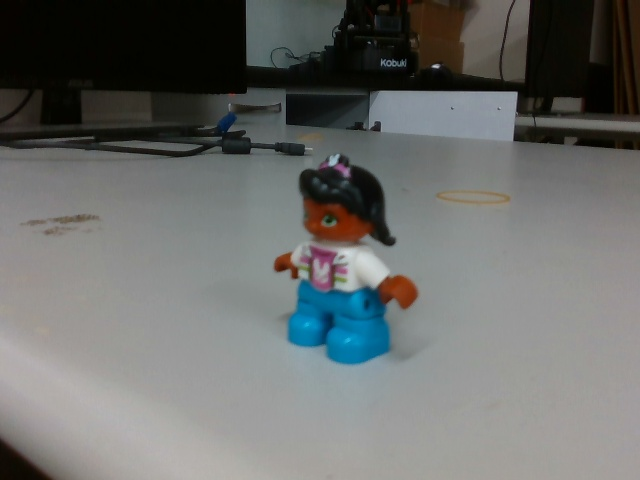people: (267, 151, 422, 367)
